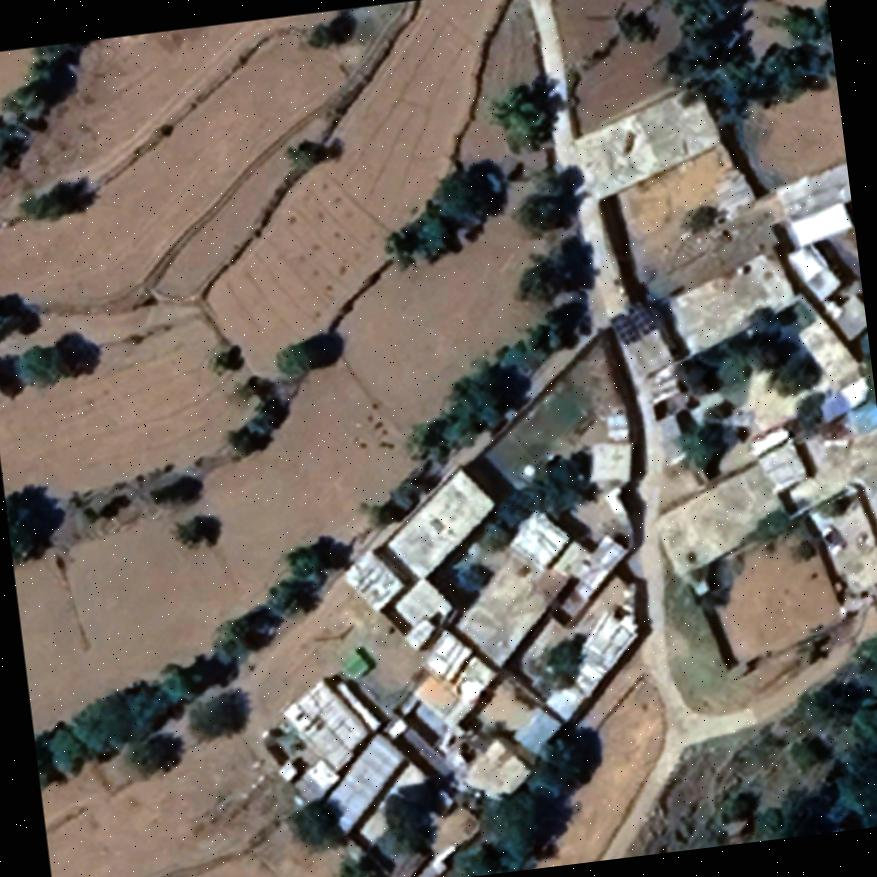Solarpanel: (605, 298, 660, 350)
